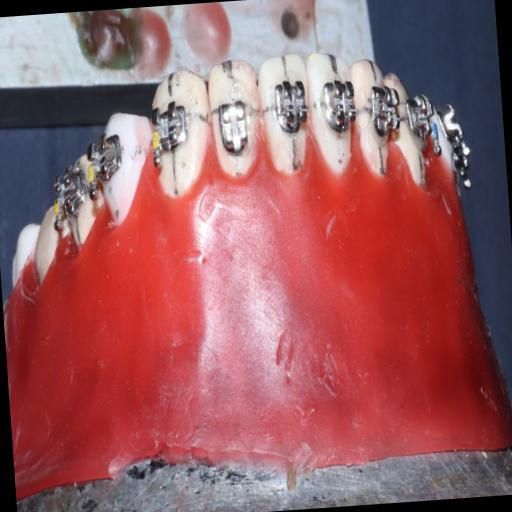correct_brace: (271, 76, 311, 136)
incorrect_brace: (206, 54, 267, 180), (146, 98, 196, 170), (216, 94, 254, 157)
